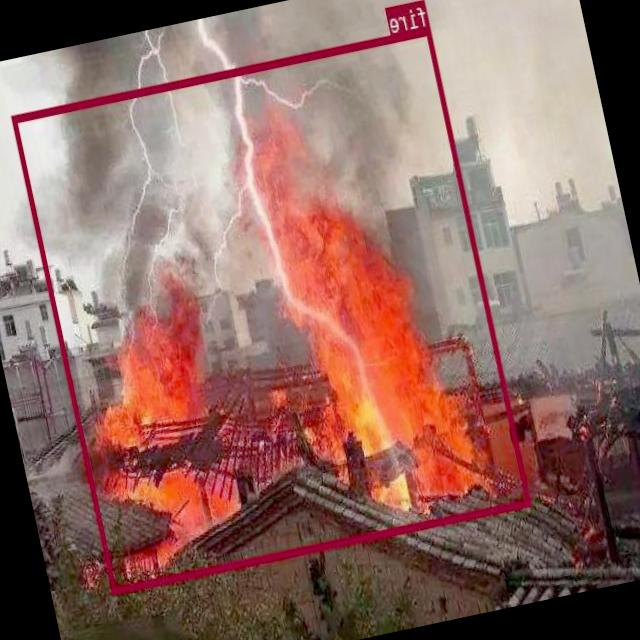fire: (12, 26, 531, 592)
